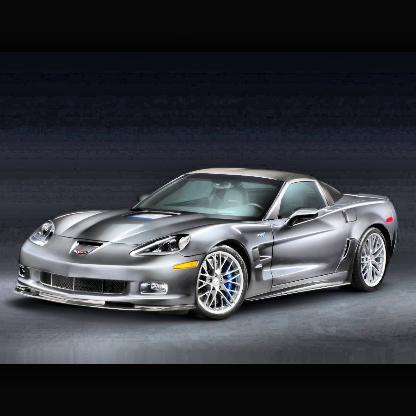Chevrolet Corvette ZR1 2012: (14, 162, 404, 325)
